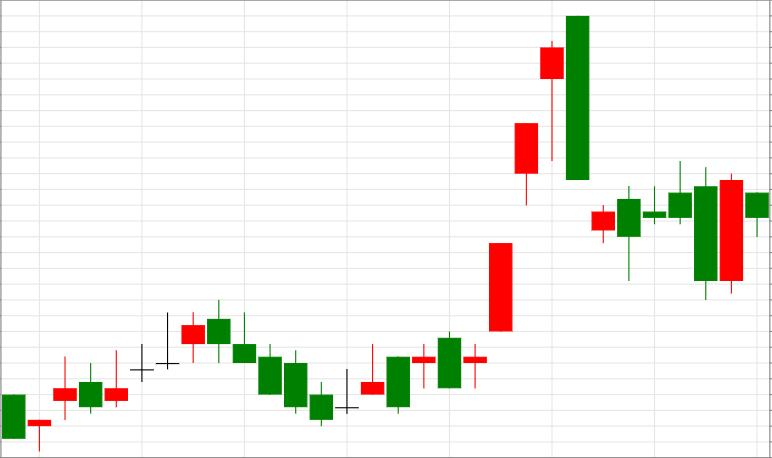bearish_engulfing_fall: (361, 16, 590, 414)
